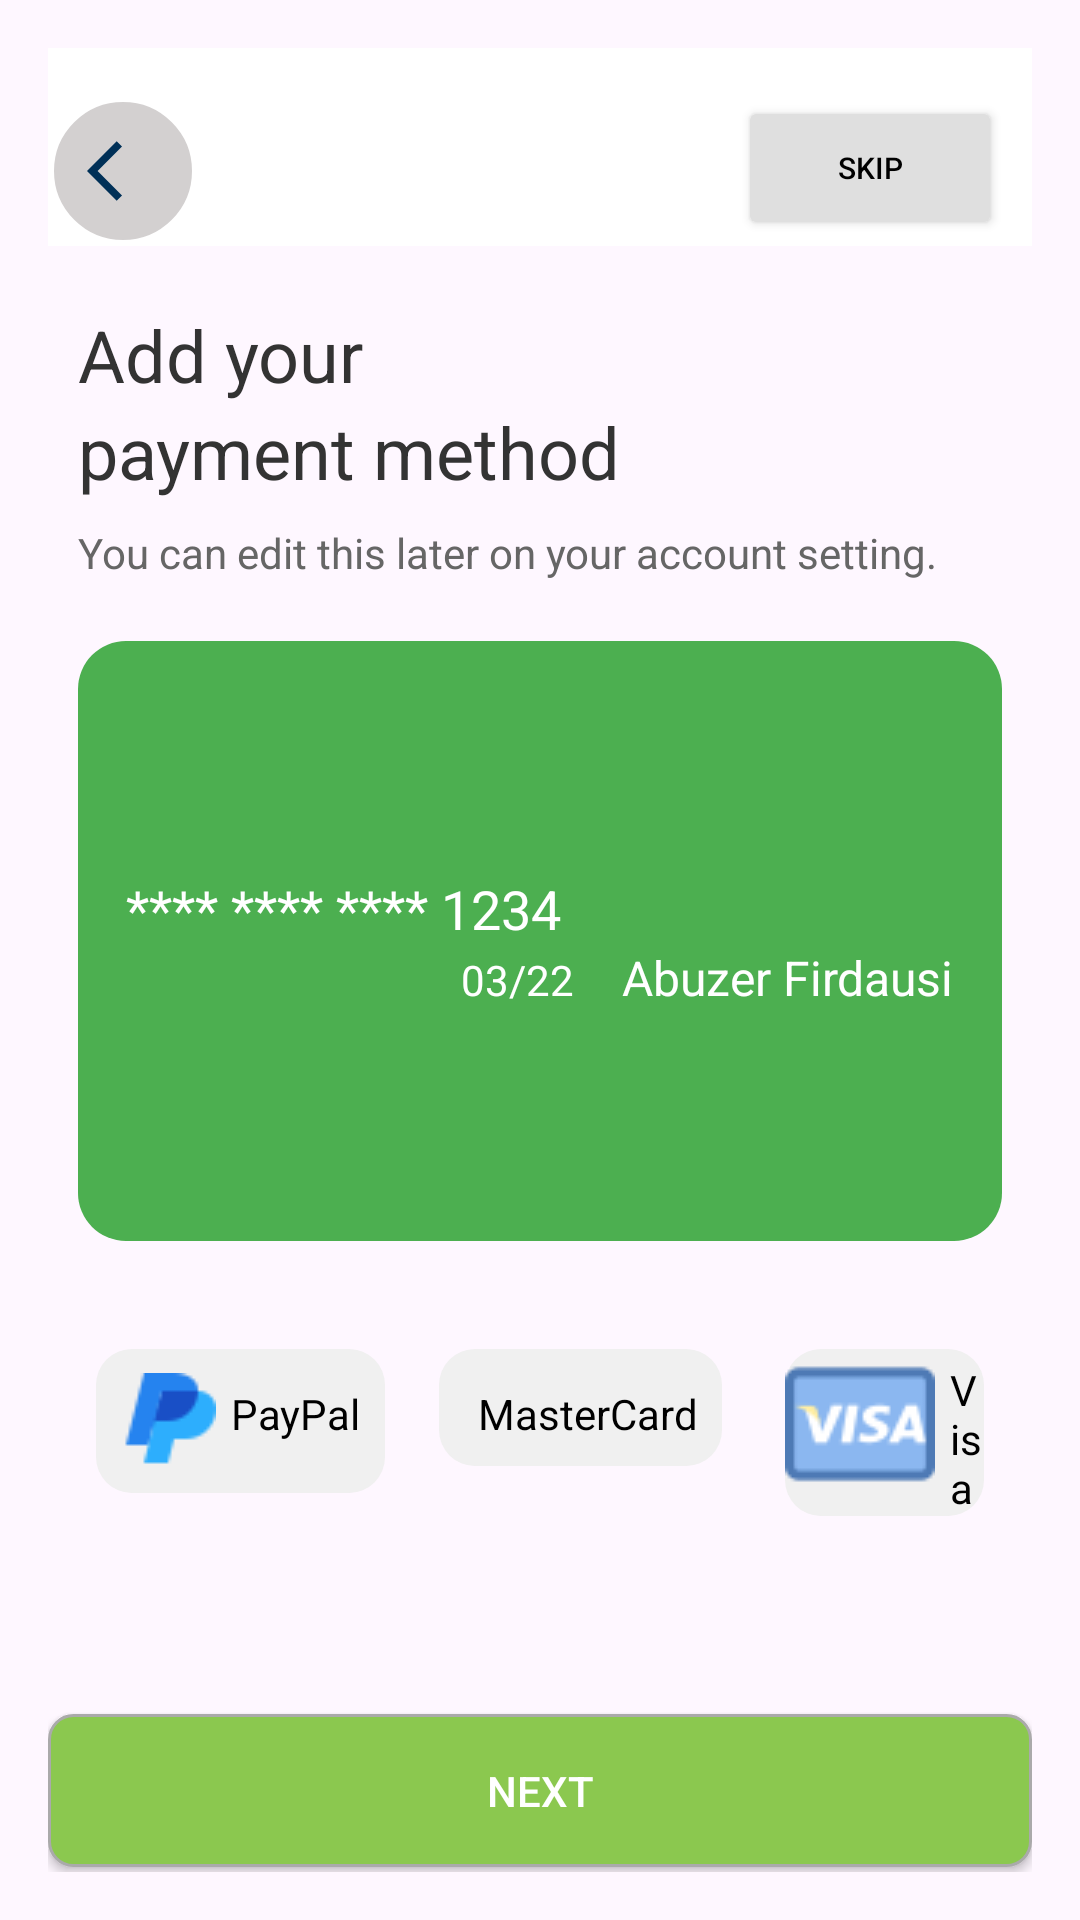

Icon bounding boxes for this 1080px×1920px phone screenshot, format bbox=(x1, y1, x2, y2):
arrow back: bbox=(54, 102, 192, 240)
